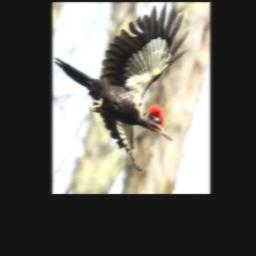Woodpecker: (54, 2, 189, 170)
